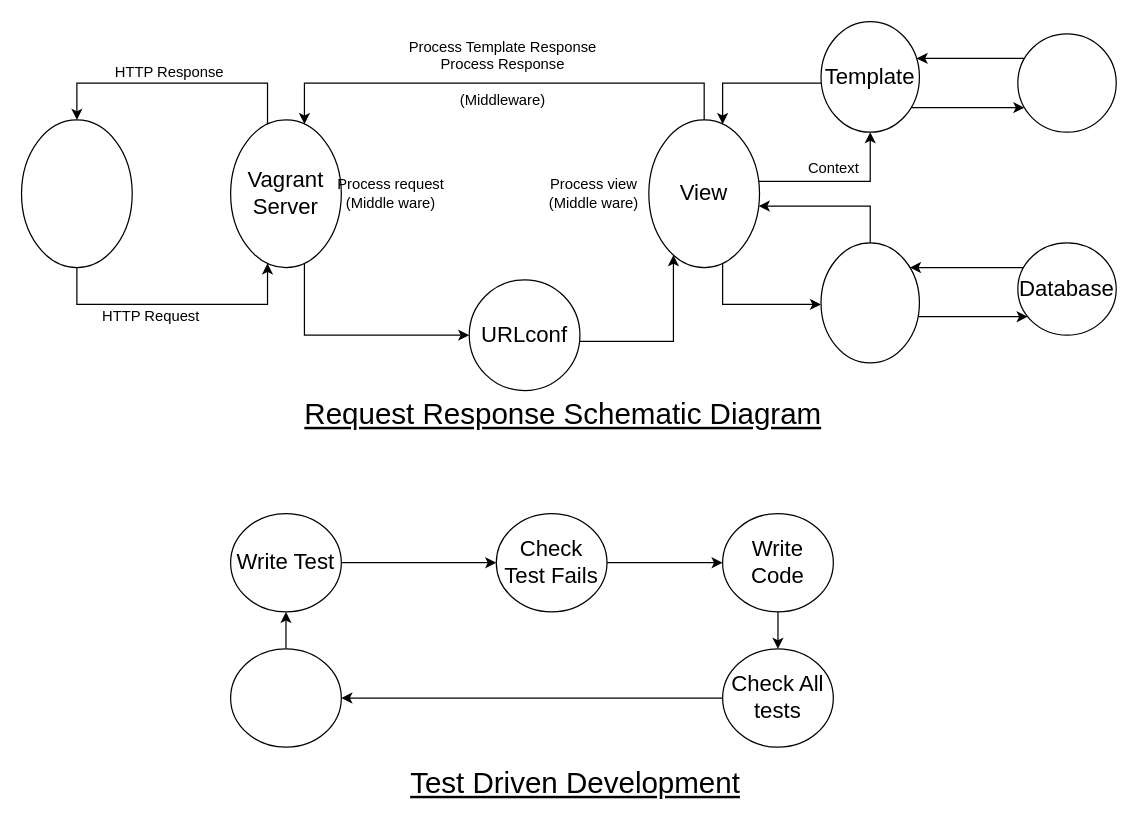
The diagram is 1138 pixels wide and 823 high, and some of its shapes have lost their labels. The centre of each missing label's shape, as x and y in pixels:
"Browser" goes at (76,193).
"Model (ORM)" goes at (869,302).
"Refactor" goes at (285,697).
"Tags and Filters" goes at (1066,82).
